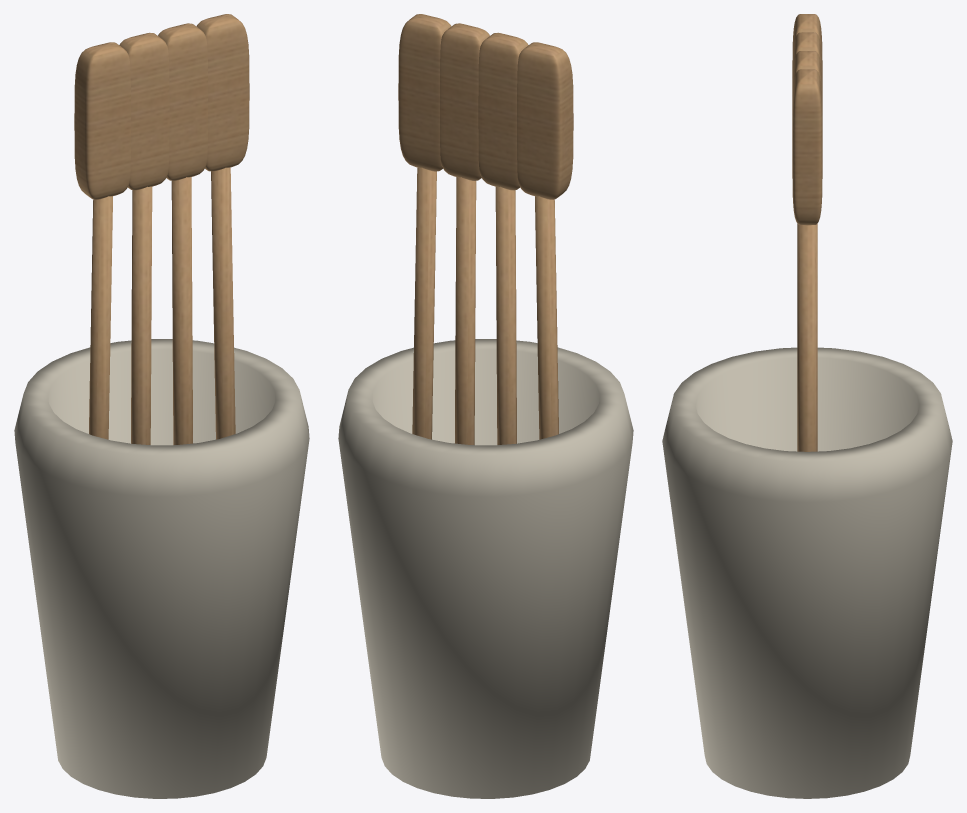
File: shared.utensils.gltf
3 views of the same model, side by side, from view 1: azimuth 30°, elevation 25°; view 2: azimuth 150°, elevation 25°; view 3: azimuth 270°, elevation 25° (orthographic).
Visible parts, largest first — view 1: shared.utensils.crock; view 2: shared.utensils.crock; view 3: shared.utensils.crock.
Part boxes in pixels (left/top/right/bottom): shared.utensils.crock: left=14, top=14, right=309, bottom=798; shared.utensils.crock: left=338, top=14, right=633, bottom=798; shared.utensils.crock: left=662, top=14, right=952, bottom=798.
Size of the model in its own units: 0.1152 by 0.3104 by 0.1152.
2 materials, 1 textured.
